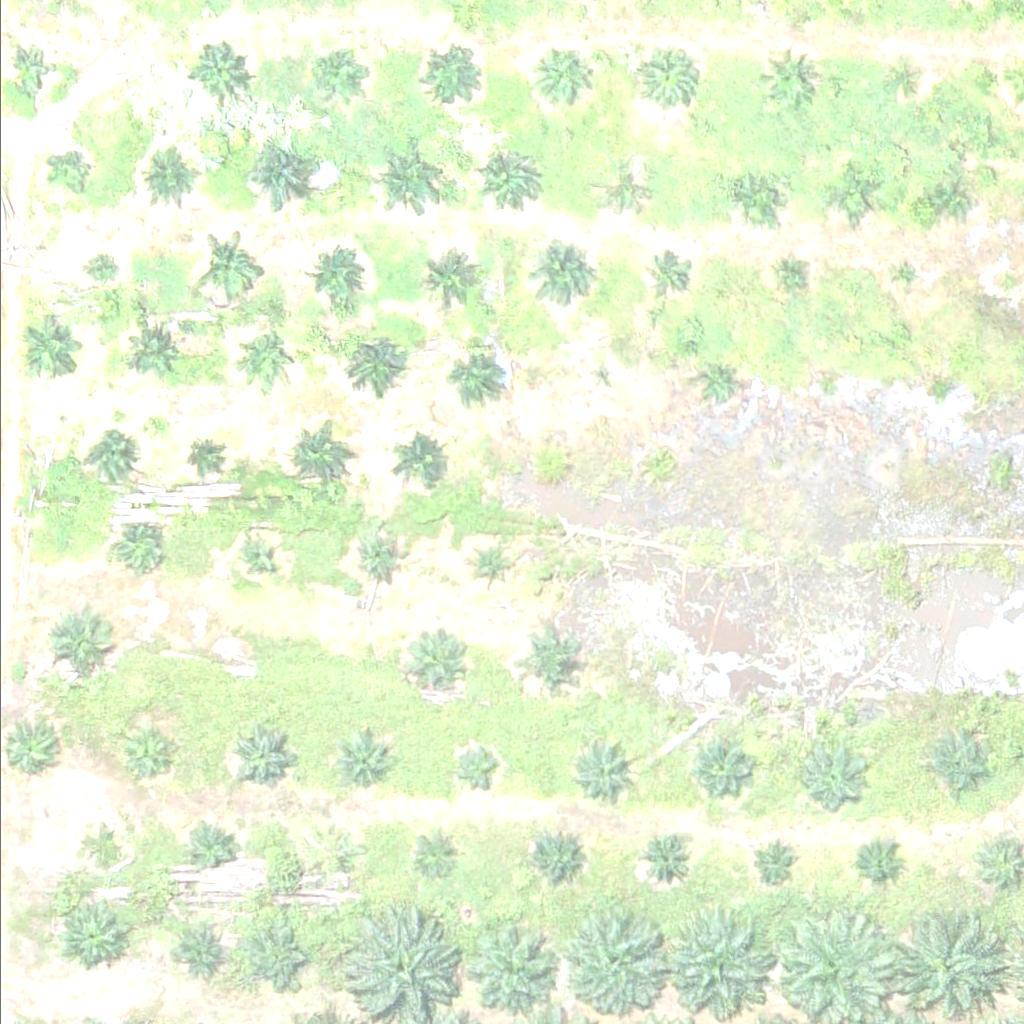Kelapa_Sawit: (653, 907, 767, 1019), (568, 913, 669, 1013), (464, 923, 552, 1011), (286, 238, 362, 313), (367, 141, 443, 216), (514, 234, 590, 309), (412, 242, 488, 317), (44, 609, 120, 684), (184, 230, 260, 305), (236, 139, 311, 214), (798, 741, 873, 816), (55, 898, 130, 973), (406, 639, 469, 702), (522, 628, 585, 691), (450, 343, 513, 406), (20, 320, 83, 383), (130, 147, 193, 210), (125, 319, 188, 382), (182, 39, 245, 102), (683, 737, 746, 800), (334, 726, 397, 789), (229, 726, 292, 789), (115, 719, 178, 782), (633, 827, 696, 890), (288, 429, 351, 491), (388, 428, 451, 490), (418, 46, 481, 108), (343, 332, 405, 395), (476, 149, 539, 211), (754, 46, 817, 108), (721, 166, 784, 228), (634, 44, 697, 106), (523, 48, 586, 110), (926, 736, 989, 798), (572, 738, 635, 800), (242, 926, 305, 988), (521, 824, 584, 886), (820, 165, 883, 227), (176, 932, 227, 982), (416, 830, 467, 880), (319, 829, 370, 879), (190, 819, 241, 869), (454, 745, 505, 795), (44, 152, 95, 202), (2, 46, 53, 96), (854, 835, 905, 885), (640, 247, 691, 297), (246, 328, 296, 378), (313, 47, 363, 97), (83, 429, 133, 479), (116, 529, 166, 579), (75, 823, 125, 873), (357, 531, 407, 581), (596, 162, 646, 212), (747, 839, 797, 889), (693, 361, 743, 411), (471, 548, 509, 586), (233, 538, 271, 576), (79, 247, 117, 285), (531, 445, 569, 483), (883, 259, 921, 297), (931, 183, 969, 221), (878, 62, 916, 100), (182, 433, 220, 470), (779, 261, 805, 286), (590, 365, 615, 390)
